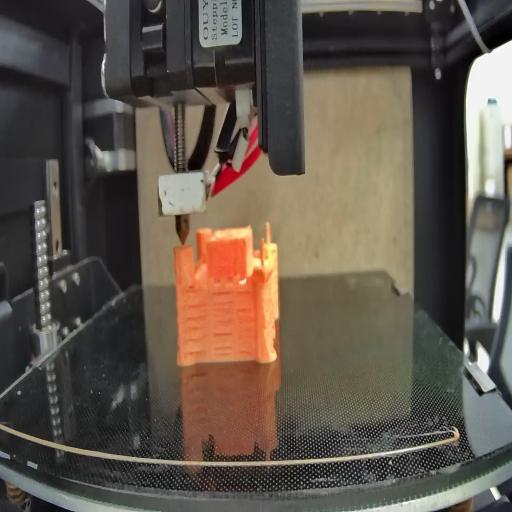cracks: (182, 302, 207, 358), (212, 287, 236, 323), (238, 286, 256, 326), (213, 330, 234, 358), (235, 330, 257, 354), (184, 283, 200, 292)
